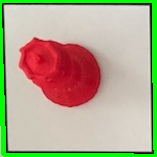Red Queen: (16, 33, 103, 110)
